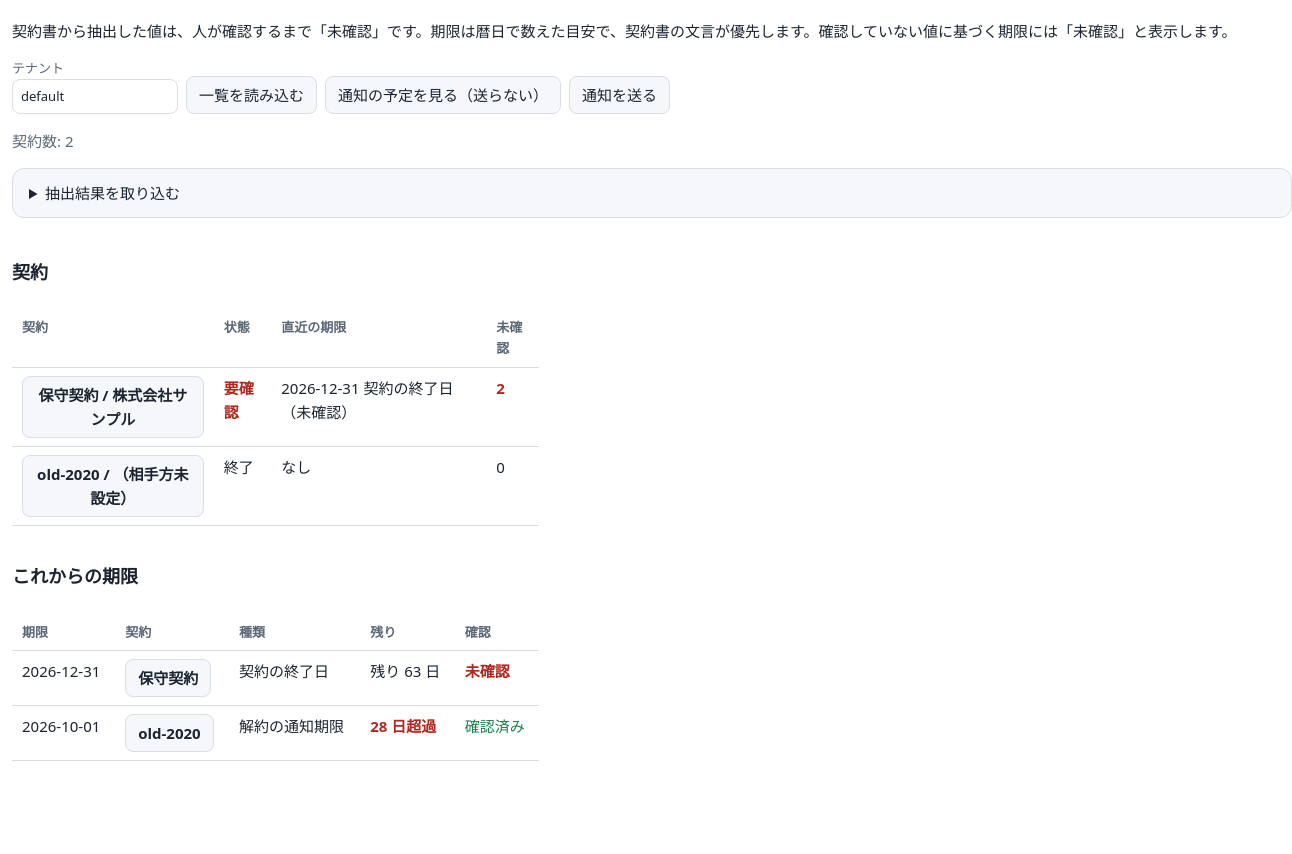
Test case: the contract detail › keeps extracted values visibly unconfirmed
Click the button with aria-label "保守契約 / 株式会社サンプル の詳細を開く": (113, 407) [22, 376, 204, 438]
(page scrolled)
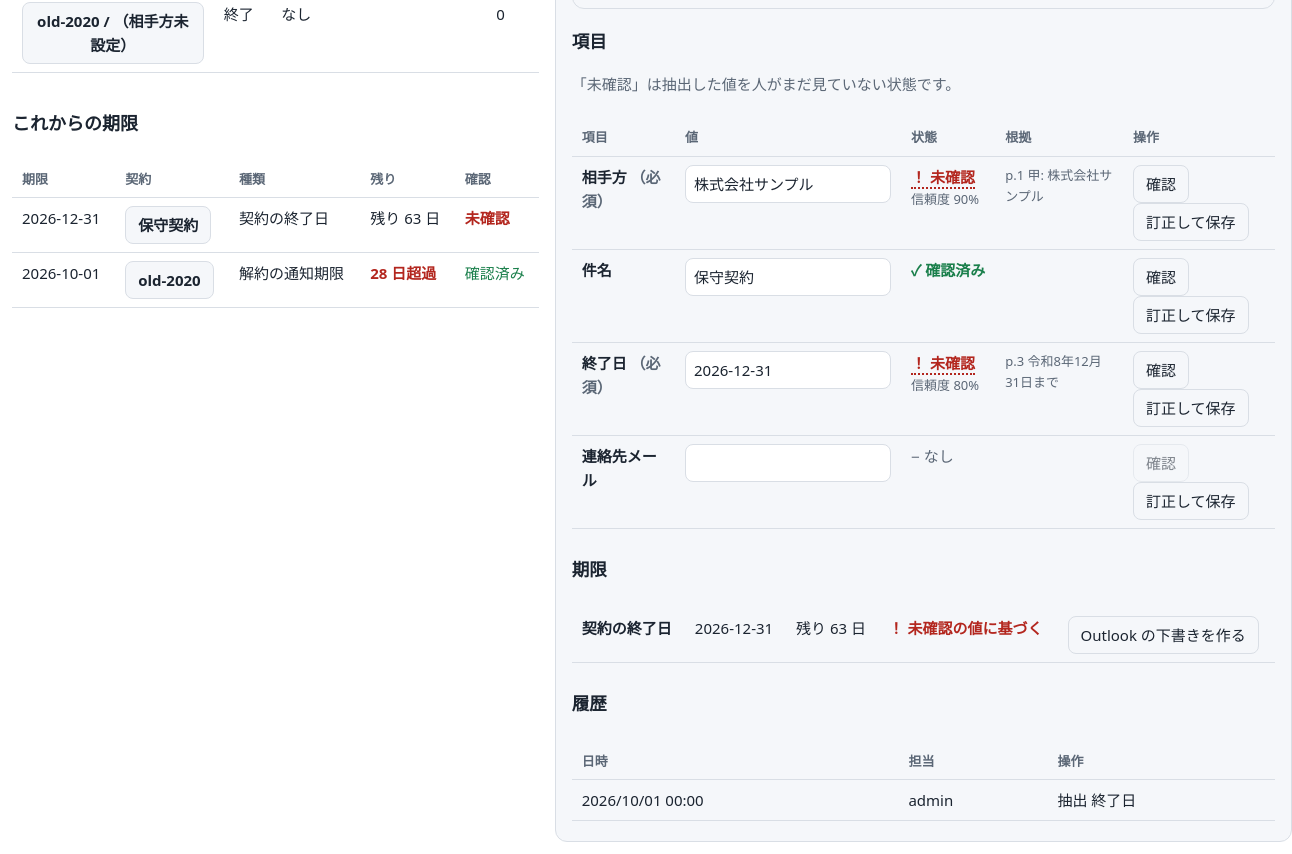
Check: the text "未確認" next to "p.1 甲: 株式会社サンプル" is shown, box [930, 167, 975, 187]
Check: the text "p.1 甲: 株式会社サンプル" is shown, box [995, 157, 1123, 250]
Check: the text "確認済み" is shown, box [925, 260, 985, 280]
